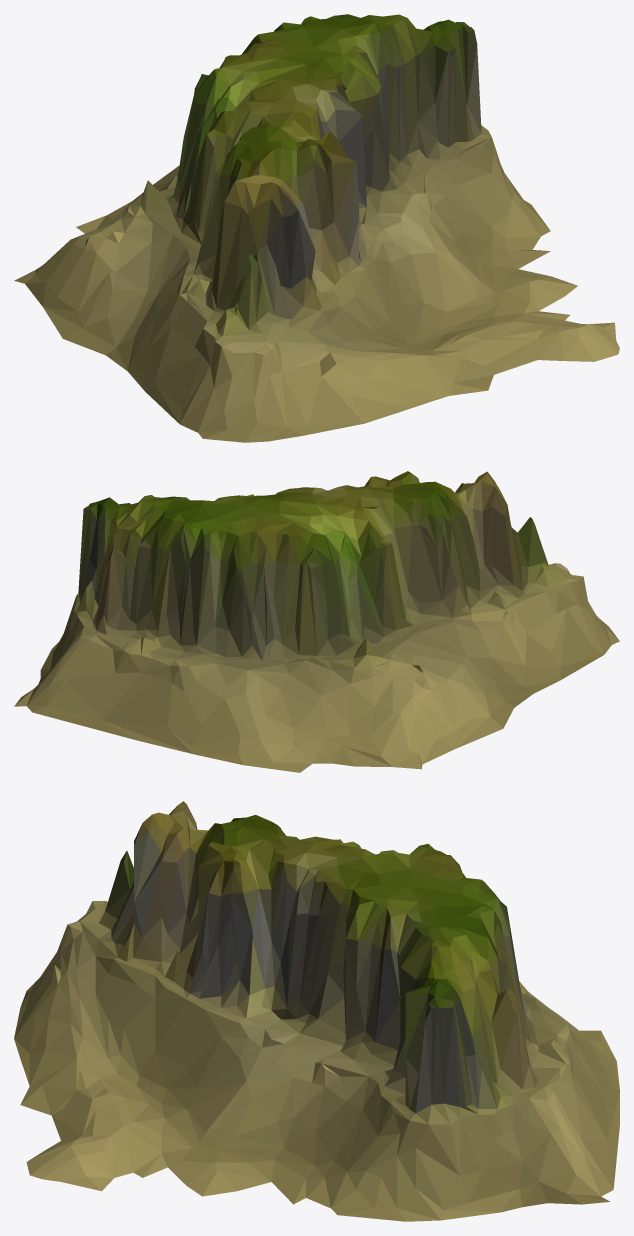
File: Cliffs_A.fbx
The picture shows the model from 3 angles, top to bottom: view 1: azimuth 30°, elevation 25°; view 2: azimuth 150°, elevation 25°; view 3: azimuth 270°, elevation 25°; orthographic projection. The views are drawn at different scales.
Parts seen in each view (by area): view 1: Cliffs_A; view 2: Cliffs_A; view 3: Cliffs_A.
Boxes of the visible parts, <box> form: Cliffs_A: <box>14,14,619,442</box>; Cliffs_A: <box>14,471,619,772</box>; Cliffs_A: <box>14,801,619,1221</box>.
Bounding box in the file's own units: 9650 × 3922 × 9650.
